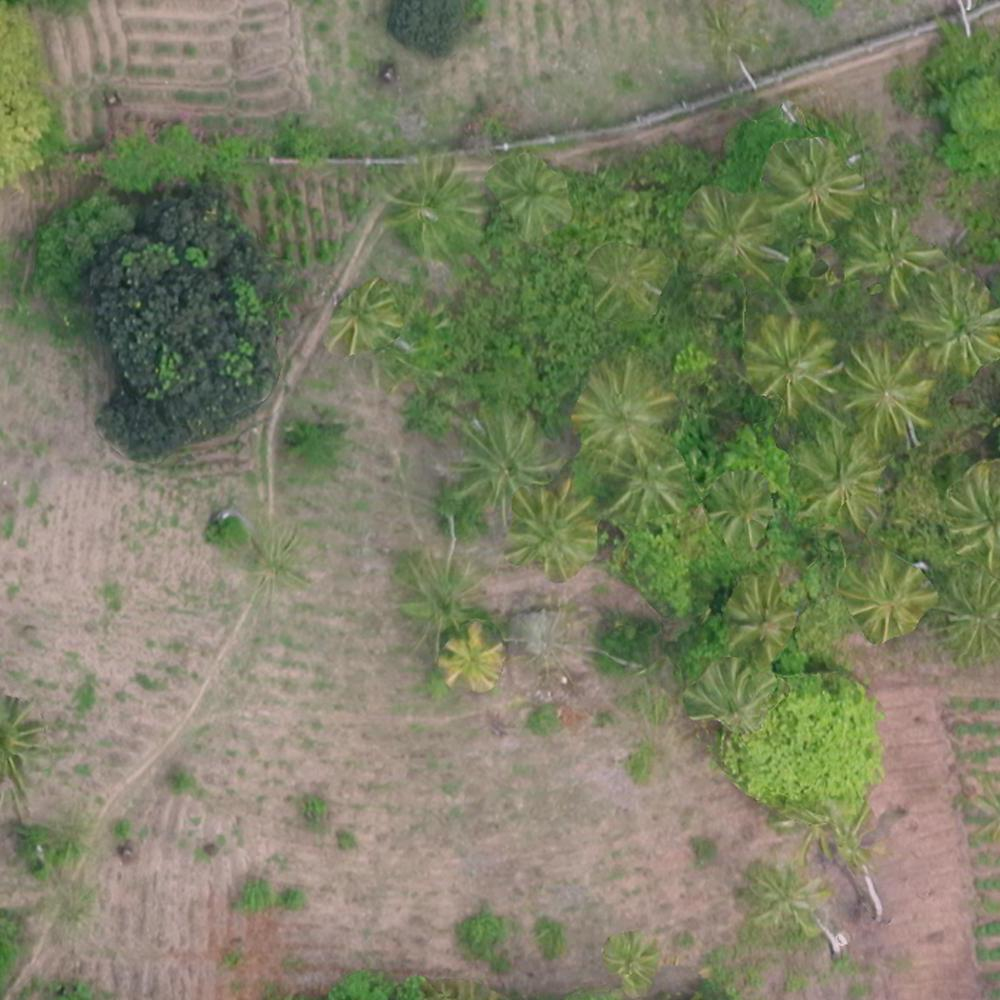Palm: (835, 338, 934, 445), (574, 359, 674, 462), (452, 413, 552, 509), (764, 140, 858, 235), (683, 190, 783, 278), (742, 315, 835, 409), (908, 279, 997, 375), (794, 434, 890, 523), (846, 213, 934, 300), (505, 493, 599, 573), (843, 556, 932, 640), (599, 442, 686, 519), (493, 151, 574, 232), (701, 467, 778, 546), (321, 286, 405, 357), (435, 624, 509, 699), (725, 576, 795, 655), (590, 240, 662, 312)
